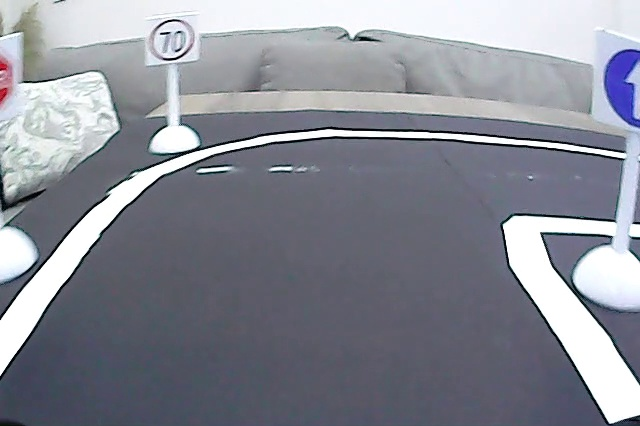speed limit 70: (147, 17, 197, 62)
